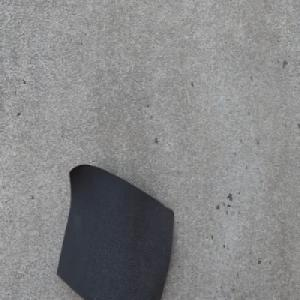PaintChip: (55, 163, 174, 300)
